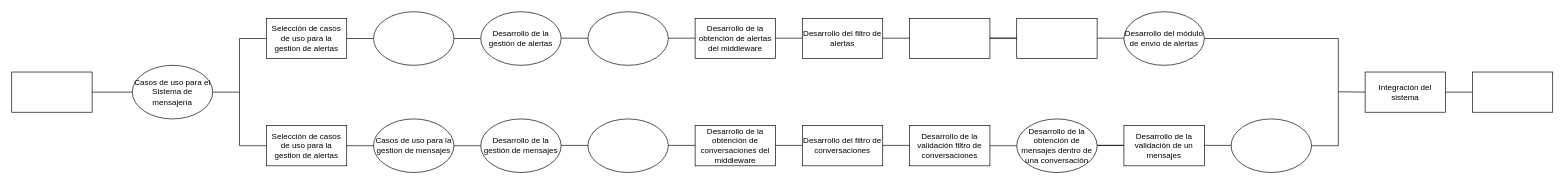
The diagram is 1564 pixels wide and 184 high, and some of its shapes have lost their labels. The centre of each missing label's shape, as x and y in pixels:
Casos de uso para la gestion de alertas: pixel 413 38
Deployment del sistema: pixel 1512 91
Desarrollo de la validación de una alerta: pixel 1056 38
Desarrollo de la validación filtro de alertas: pixel 949 38
Desarrollo del listado de alertas: pixel 627 38
Desarrollo del listado de conversaciones: pixel 627 145
Desarrollo del módulo de envío de mensajes: pixel 1271 145
Selección de casos de uso para el Sistema de mensajería: pixel 51 91
